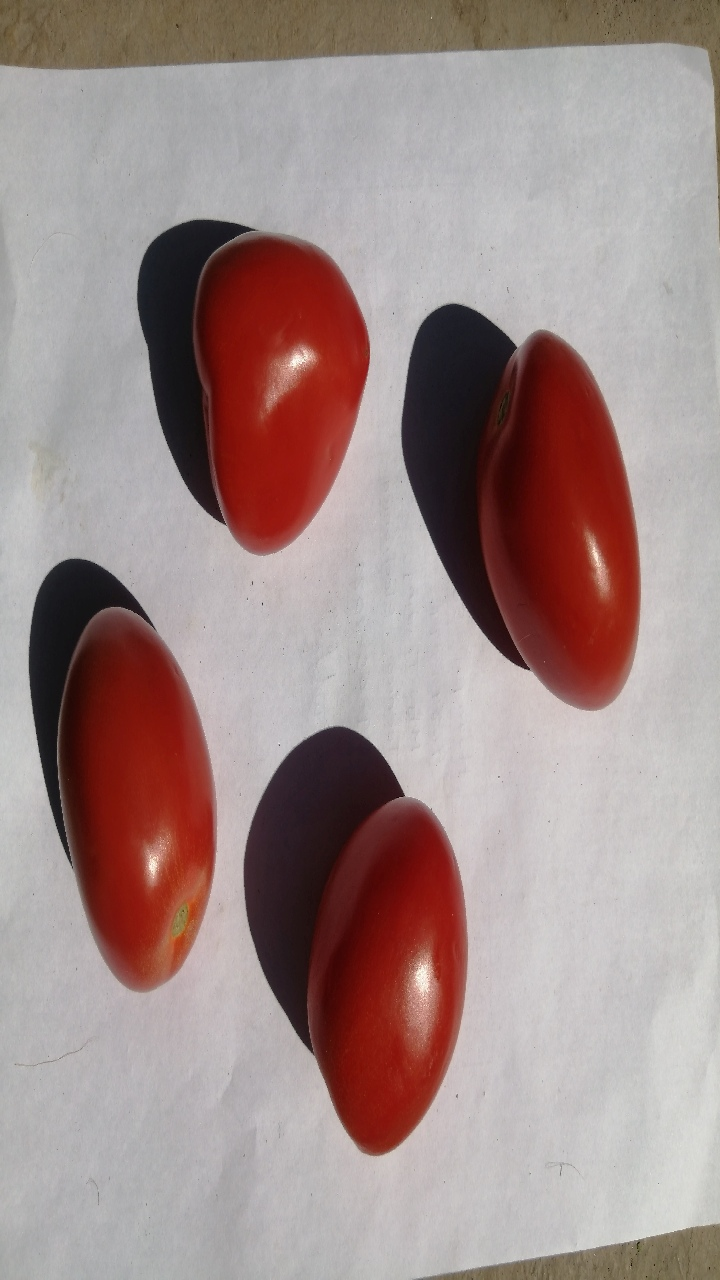tomateRojo: (460, 303, 657, 722), (289, 775, 483, 1175), (52, 594, 240, 1005), (161, 206, 377, 552)
